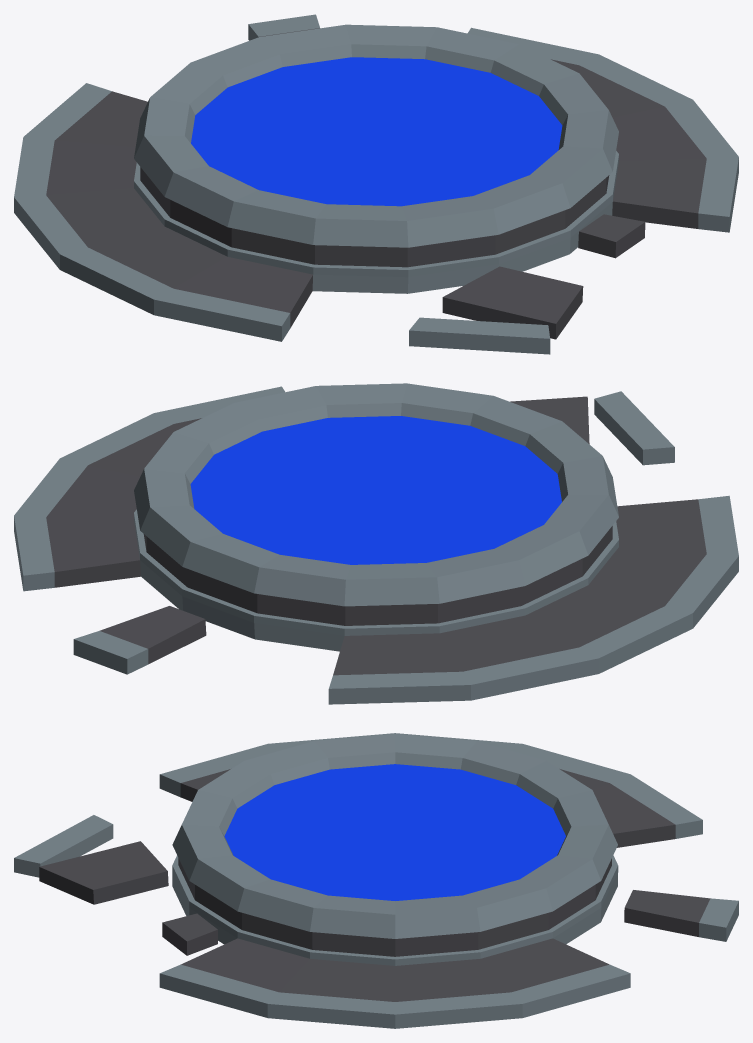
File: portal.fbx
3 renders of one model, top to bottom at view 1: azimuth 30°, elevation 25°; view 2: azimuth 150°, elevation 25°; view 3: azimuth 270°, elevation 25°, orthographic. The views are drawn at different scales.
Visible parts, largest first — view 1: Portal; view 2: Portal; view 3: Portal.
Part boxes in pixels (x1,y1,x2,y2): Portal: [14, 14, 738, 354]; Portal: [14, 383, 738, 704]; Portal: [14, 733, 738, 1028].
Bounding box in the file's own units: 2.99 × 0.3148 × 3.25.
